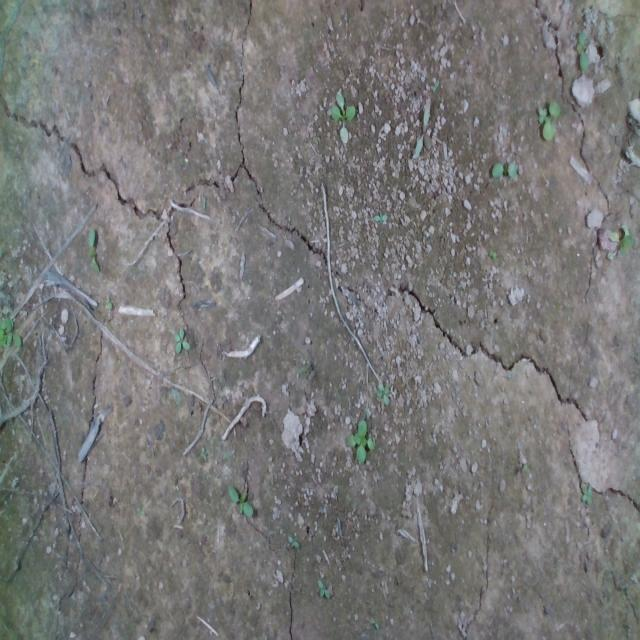weed: (350, 414, 374, 468), (227, 479, 254, 519), (537, 94, 557, 145), (85, 227, 105, 269), (489, 152, 515, 181), (332, 92, 352, 127), (372, 378, 394, 408), (172, 324, 192, 356), (316, 575, 336, 605), (286, 533, 300, 552)
